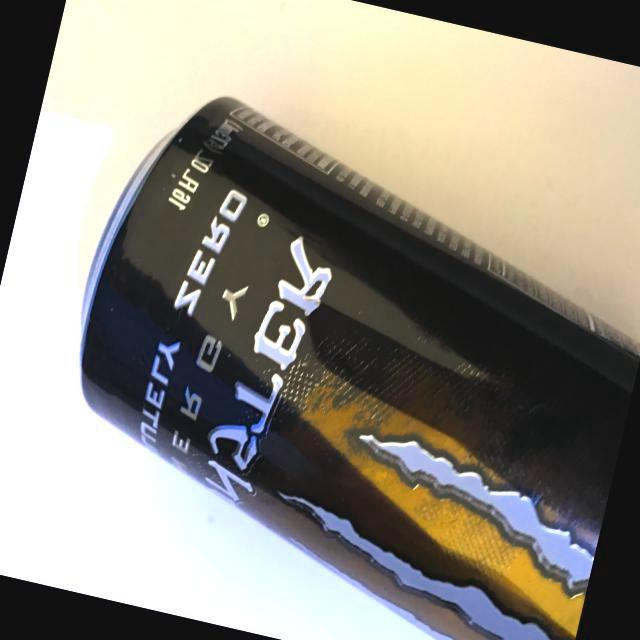metal: (12, 57, 640, 640)
